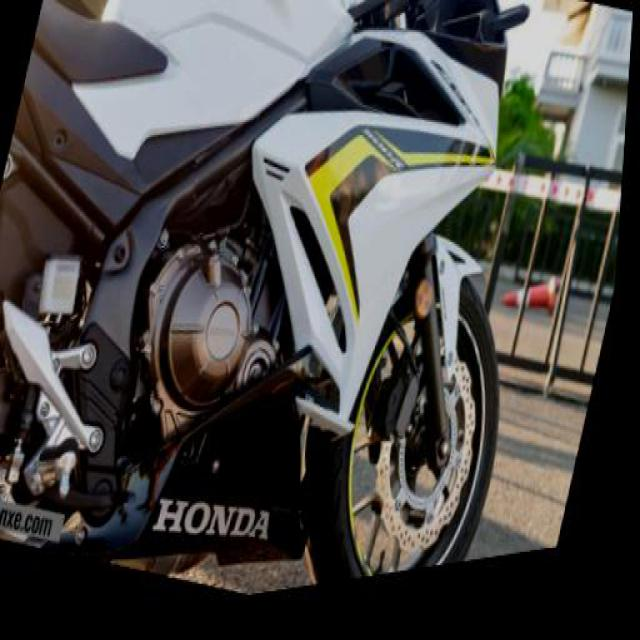CBR500R: (0, 0, 608, 638)
